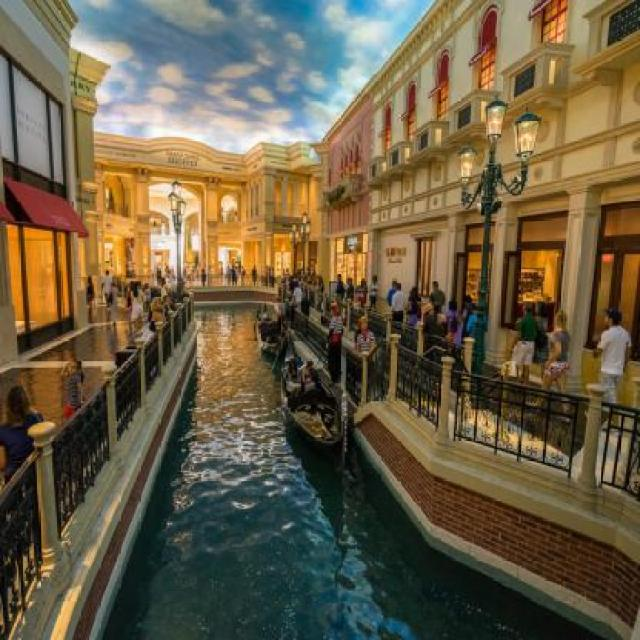Person: (386, 280, 488, 368), (588, 300, 634, 432), (525, 306, 572, 426), (0, 386, 45, 488), (266, 265, 326, 327), (515, 302, 550, 408), (122, 278, 181, 328), (508, 302, 538, 400), (325, 302, 346, 384), (333, 274, 382, 306), (61, 358, 85, 416), (355, 315, 376, 371), (283, 360, 302, 398), (185, 261, 212, 287), (220, 262, 246, 286), (106, 279, 119, 324), (155, 262, 176, 286), (301, 358, 316, 391), (84, 274, 96, 315), (101, 271, 113, 312), (125, 238, 136, 276), (126, 236, 136, 262), (251, 263, 260, 288)
